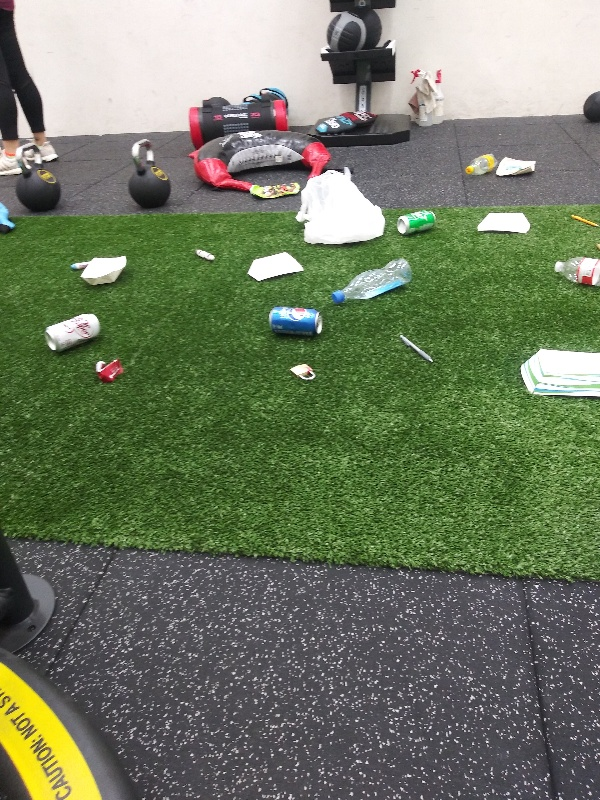bag: (495, 154, 541, 180), (252, 179, 303, 197)
bottle: (329, 256, 412, 305), (549, 254, 600, 293), (462, 151, 499, 179)
can: (43, 309, 104, 351), (265, 303, 324, 340), (393, 209, 440, 239)
plate: (519, 344, 600, 402), (241, 250, 309, 286), (80, 254, 132, 292), (475, 211, 534, 236)
